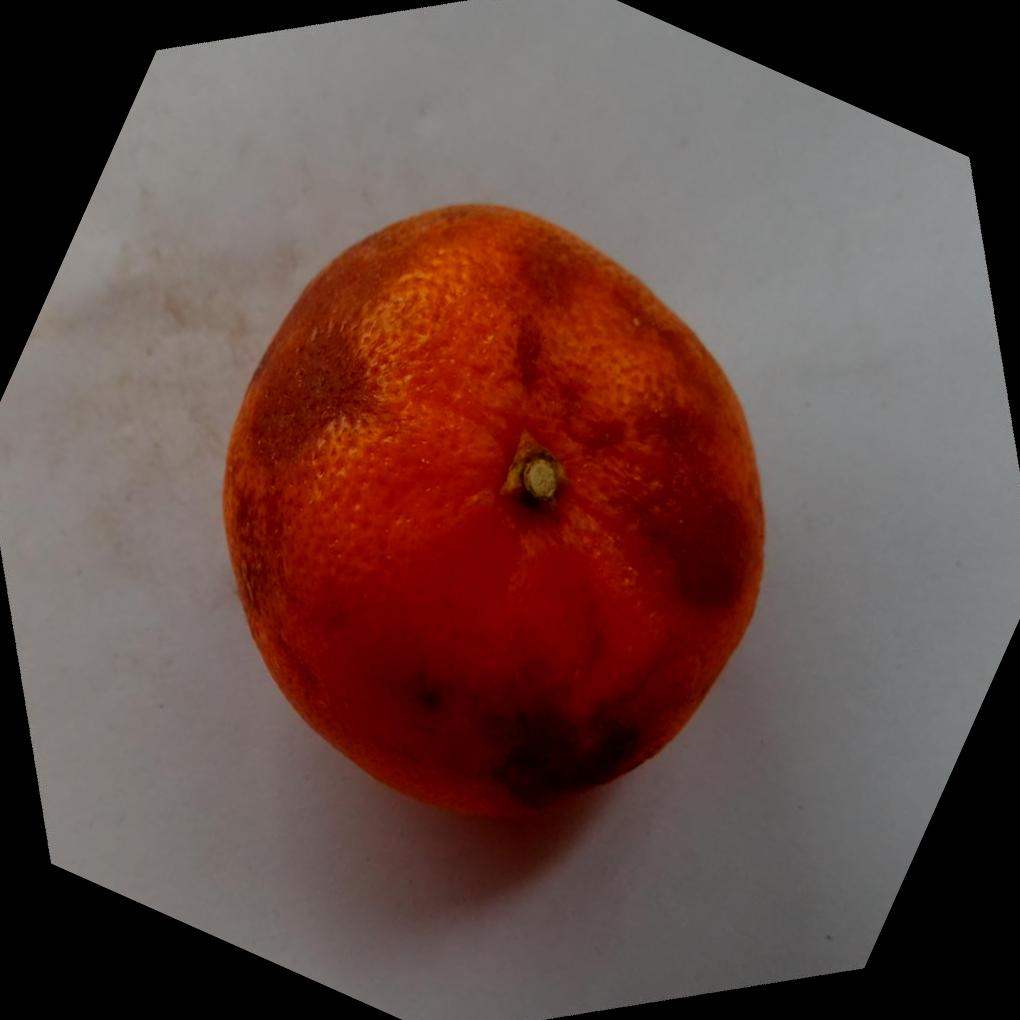FreshOrange: (222, 203, 770, 821)
